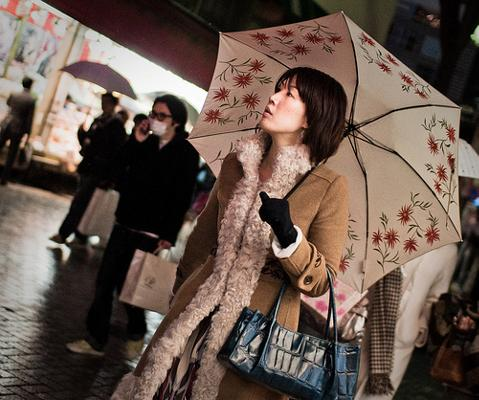person: (111, 68, 350, 400)
